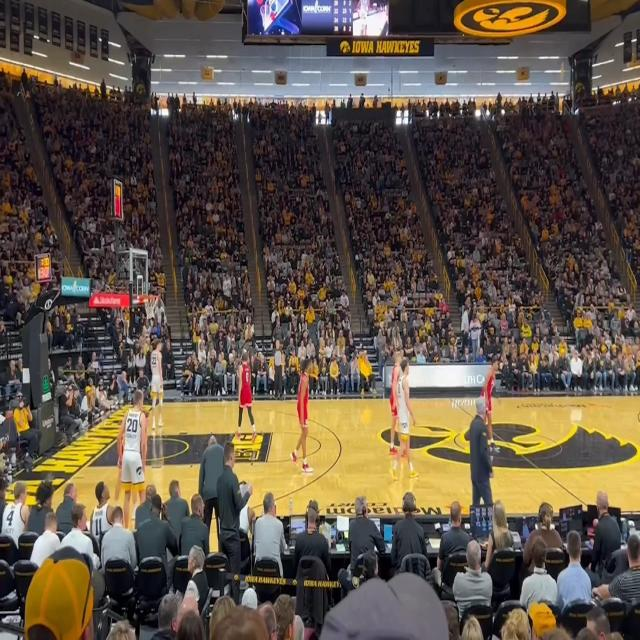Clock: (34, 254, 51, 282), (114, 180, 122, 220)
Hoop: (144, 295, 159, 319)
Player: (116, 390, 150, 546), (113, 410, 150, 520), (389, 358, 419, 482), (290, 359, 314, 473), (235, 353, 257, 445), (390, 351, 408, 458), (480, 358, 500, 451), (150, 339, 164, 430)
Ref: (272, 340, 285, 400)
